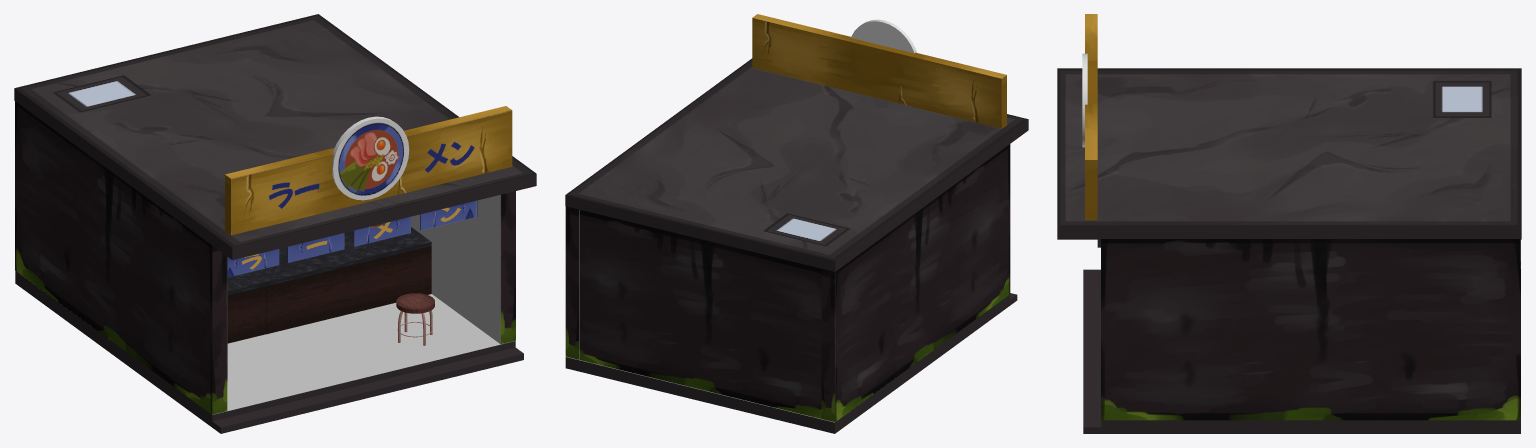
The model's file is Lame_Shop1.fbx.
The picture shows the model from 3 angles, left to right: view 1: azimuth 30°, elevation 25°; view 2: azimuth 150°, elevation 25°; view 3: azimuth 270°, elevation 25°; orthographic projection. The views are drawn at different scales.
Parts seen in each view (by area): view 1: Roof, Wall_SIde.002, Floor/Ground, Roof.001, Cylinder, Wall_SIde.001, Sign, Stool, Name_Curtin.001, Name_Curtin.003, Name_Curtin.002, Name_Curtin; view 2: Roof, Wall_back, Wall_SIde.002, Roof.001, Floor/Ground, Wall_SIde.001, Sign; view 3: Roof, Wall_SIde.001, Floor/Ground, Roof.001.
Boxes of the visible parts, x1,y1,x2,y2 form: Roof: (14, 14, 536, 259); Wall_SIde.002: (15, 101, 227, 414); Floor/Ground: (15, 271, 523, 433); Roof.001: (225, 106, 512, 235); Cylinder: (227, 227, 431, 343); Wall_SIde.001: (411, 191, 515, 344); Sign: (331, 116, 409, 200); Stool: (396, 293, 434, 345); Name_Curtin.001: (287, 233, 344, 262); Name_Curtin.003: (420, 200, 477, 230); Name_Curtin.002: (353, 216, 410, 246); Name_Curtin: (227, 249, 279, 277); Roof: (565, 58, 1028, 271); Wall_back: (579, 209, 842, 422); Wall_SIde.002: (821, 144, 1010, 421); Roof.001: (752, 14, 1006, 128); Floor/Ground: (565, 293, 1017, 433); Wall_SIde.001: (565, 206, 579, 359); Sign: (851, 19, 916, 53); Roof: (1057, 68, 1521, 247); Wall_SIde.001: (1101, 239, 1520, 420); Floor/Ground: (1083, 269, 1520, 433); Roof.001: (1085, 14, 1097, 220).
Bounding box in the file's own units: 522 × 457 × 649.
